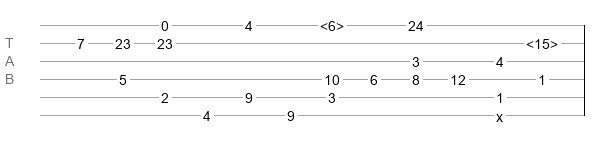0: (161, 18, 169, 28)
1: (496, 90, 504, 100), (538, 72, 546, 82)
10: (324, 72, 340, 82)
12: (450, 72, 466, 82)
2: (161, 90, 169, 100)
23: (115, 36, 131, 46), (157, 36, 173, 46)
24: (408, 18, 424, 28)
3: (328, 90, 336, 100), (412, 54, 420, 64)
4: (203, 108, 211, 118), (245, 18, 253, 28), (496, 54, 504, 64)
5: (119, 72, 127, 82)
6: (370, 72, 378, 82)
7: (77, 36, 85, 46)
8: (412, 72, 420, 82)
9: (245, 90, 253, 100), (287, 108, 295, 118)
harmonic: (526, 36, 558, 46), (320, 18, 344, 28)
x: (496, 109, 503, 117)
